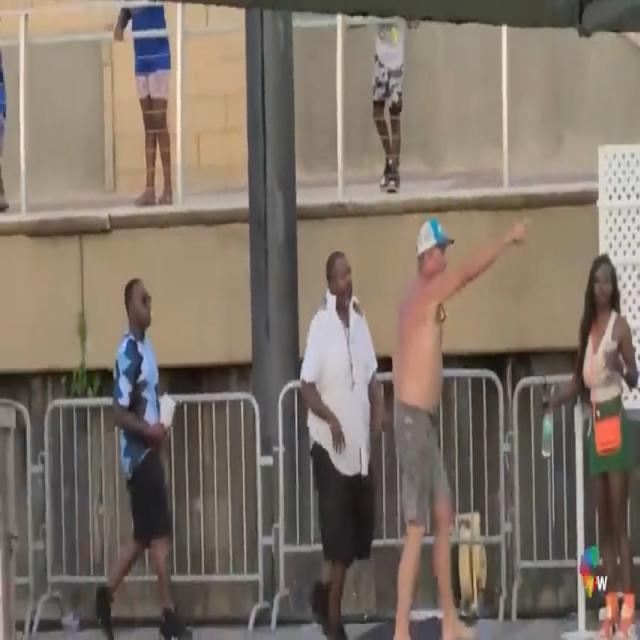non-fight: (296, 194, 531, 640), (541, 247, 639, 640), (96, 276, 192, 640)
